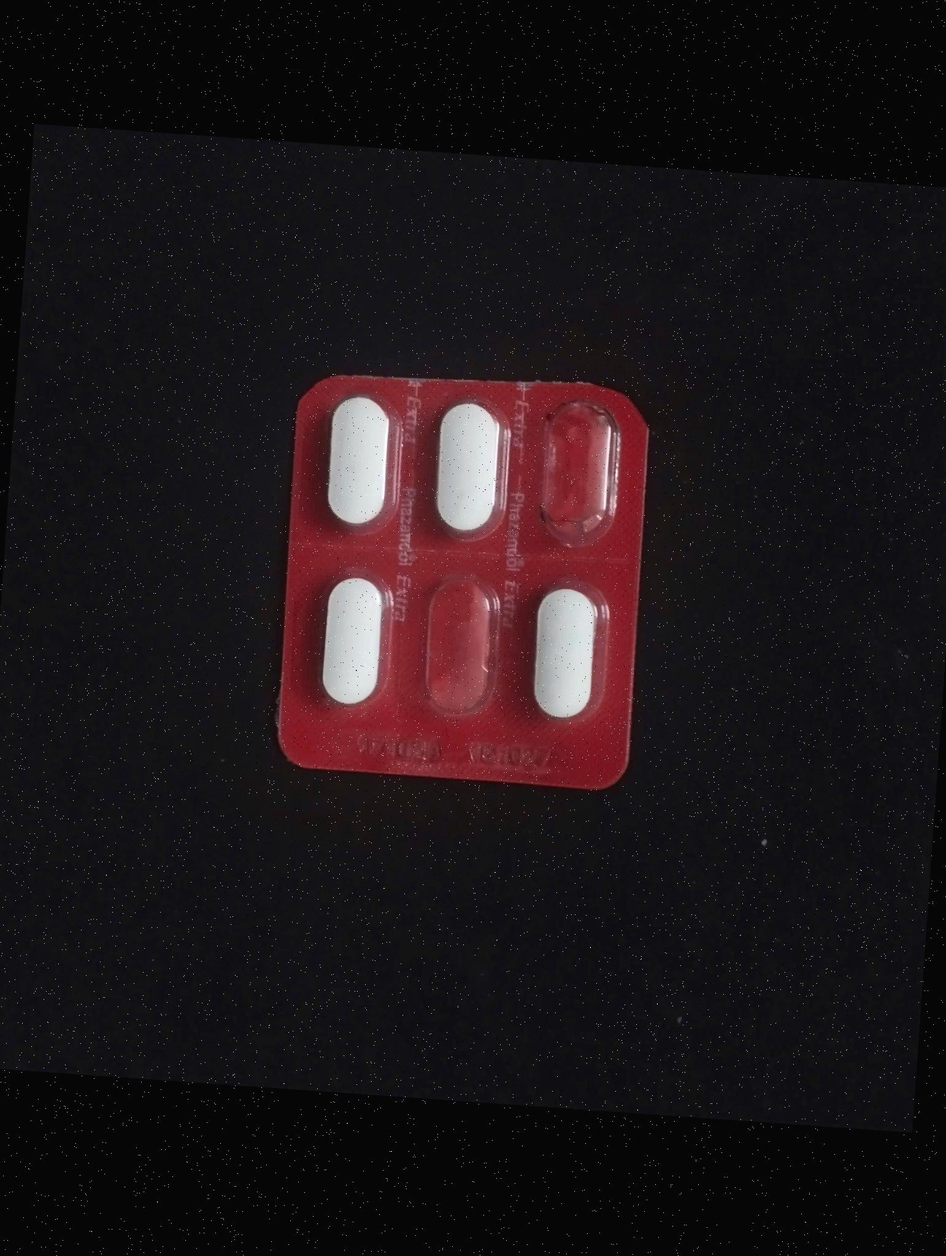Empty: (521, 392, 626, 544), (410, 573, 501, 718)
Full: (518, 573, 609, 735), (428, 395, 513, 548), (312, 559, 394, 713), (317, 392, 402, 536)
